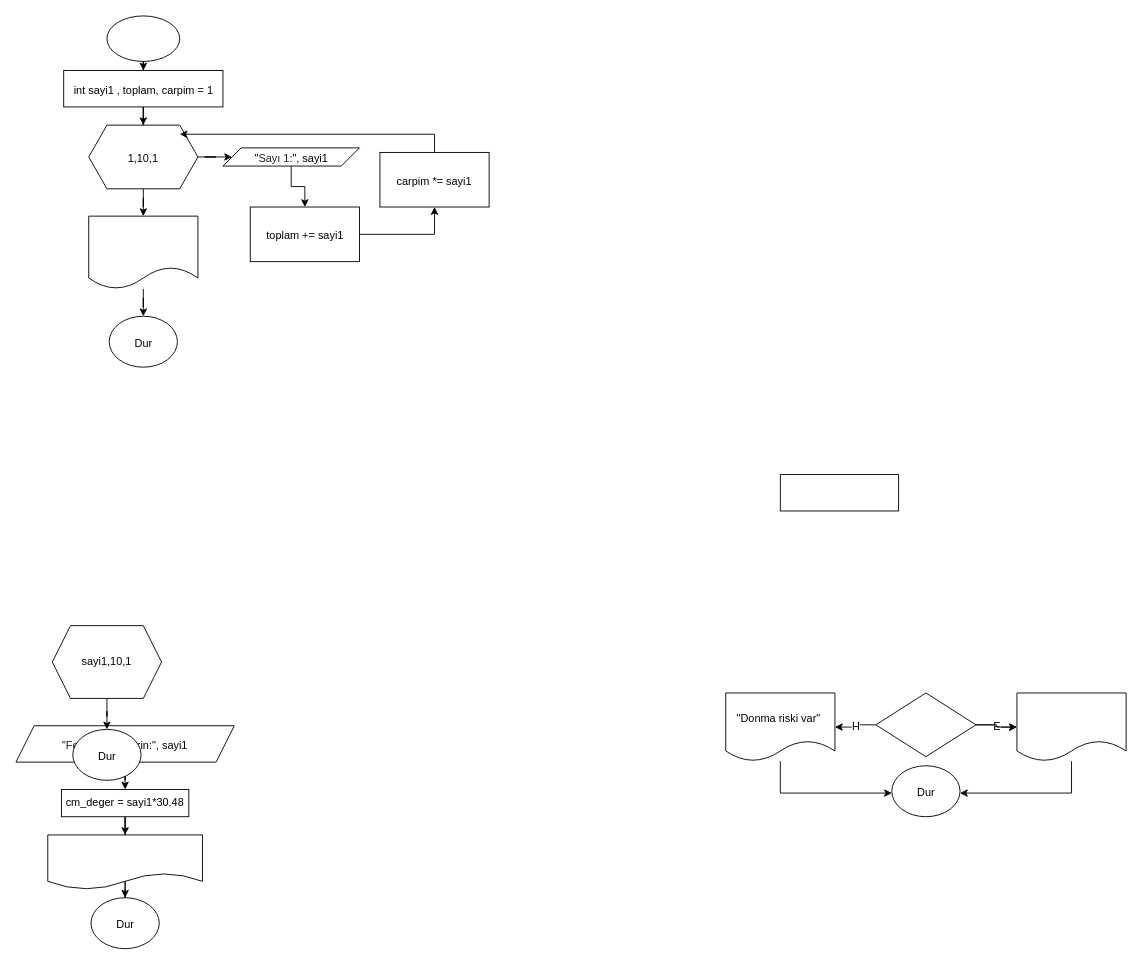
Some shapes in this 1142 by 965 pixel diagram are drawn without their labels. The shapes that lost their labels are listed below. From the top down, each one's centre as x and y in pixels, then its label:
(143,38): Başla
(143,252): toplam,carpim
(839,492): int sayi1, cm_deger
(925,724): sayi1 > 0
(1071,726): "Donma riski yok "
(124,862): "Girdiğiniz sayının cm cinsinden değeri: ", cm_deger
